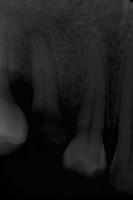Dental Caries: (14, 27, 56, 82)
